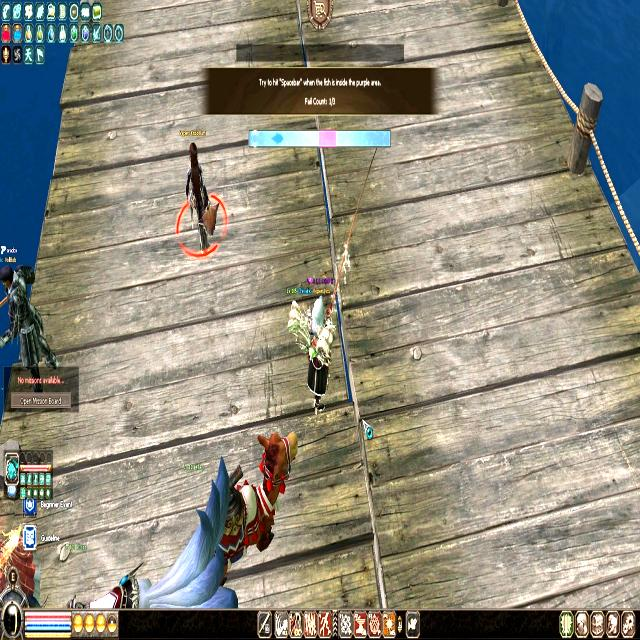fishes: (272, 132, 283, 144)
